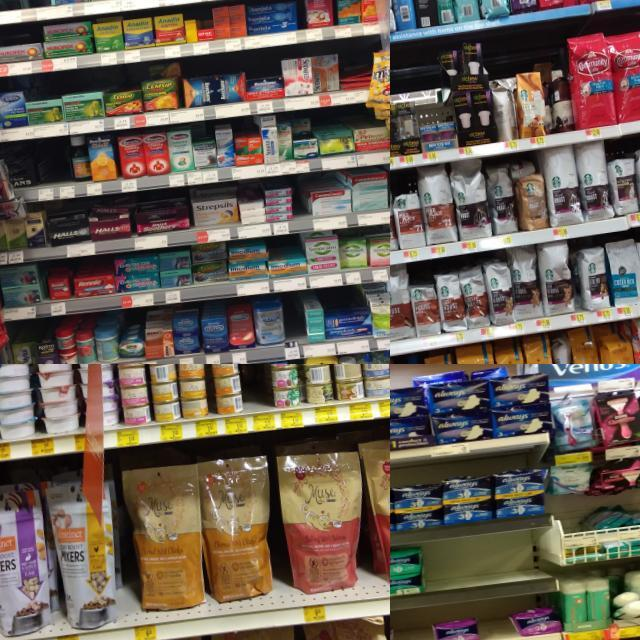Imprecise: (516, 170, 553, 238), (136, 60, 186, 110)
